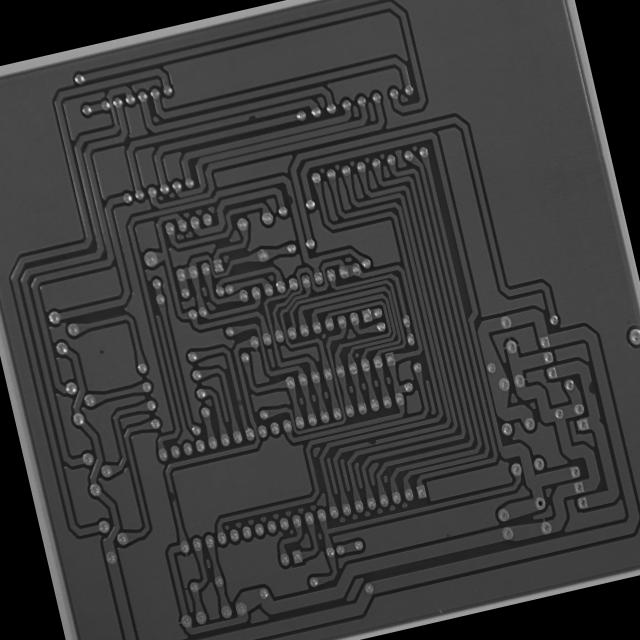mouse_bite: (584, 376, 597, 398), (241, 110, 260, 124), (165, 488, 178, 506), (284, 190, 296, 208), (364, 434, 379, 446)
